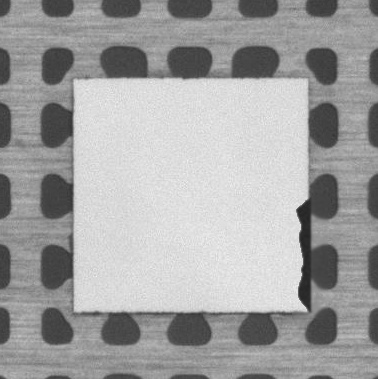DIE_BROKEN: (292, 196, 313, 314)
